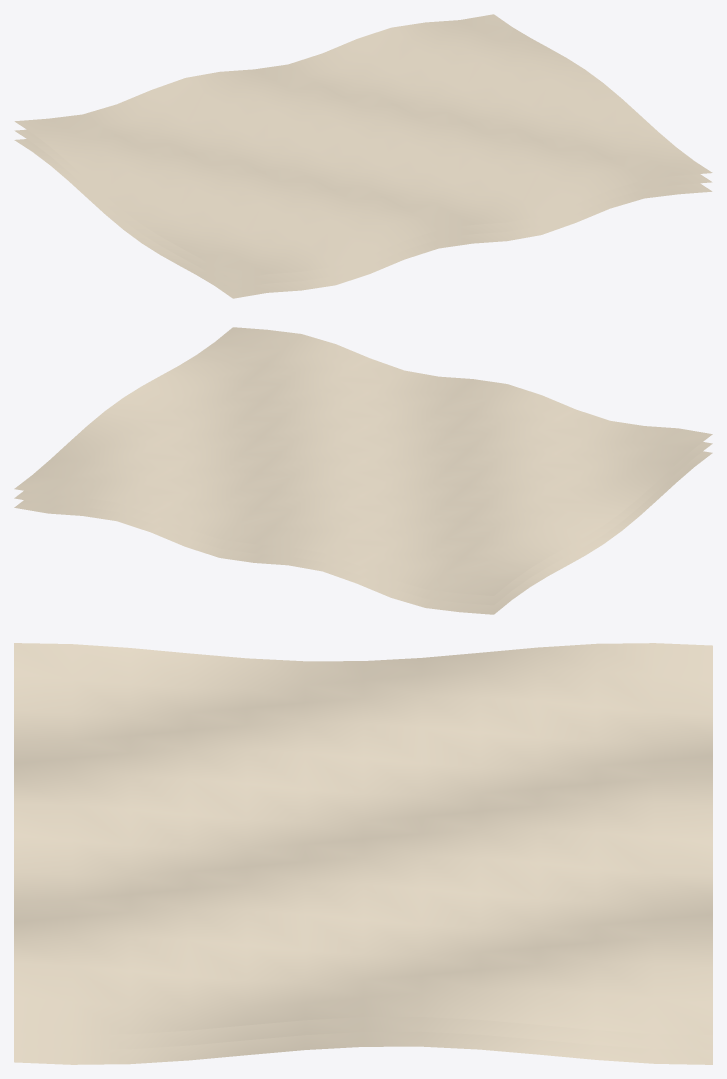
The model's file is folded-cloth-v2.glb.
3 views of the same model, one above another, from view 1: azimuth 30°, elevation 25°; view 2: azimuth 150°, elevation 25°; view 3: azimuth 270°, elevation 25° (orthographic). The views are drawn at different scales.
Parts seen in each view (by area): view 1: Soft folded cloth (×3); view 2: Soft folded cloth (×3); view 3: Soft folded cloth (×3).
Boxes of the visible parts, x1=… form: Soft folded cloth (×3): x1=14, y1=14, x2=712, y2=298; Soft folded cloth (×3): x1=14, y1=327, x2=712, y2=614; Soft folded cloth (×3): x1=14, y1=643, x2=712, y2=1064.
Size of the model in its own units: 0.43 by 0.026 by 0.34.
